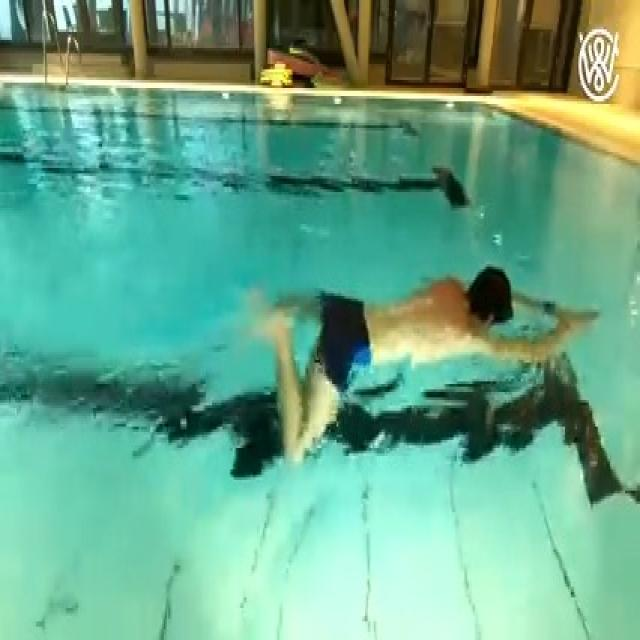Swimming: (239, 243, 603, 472)
